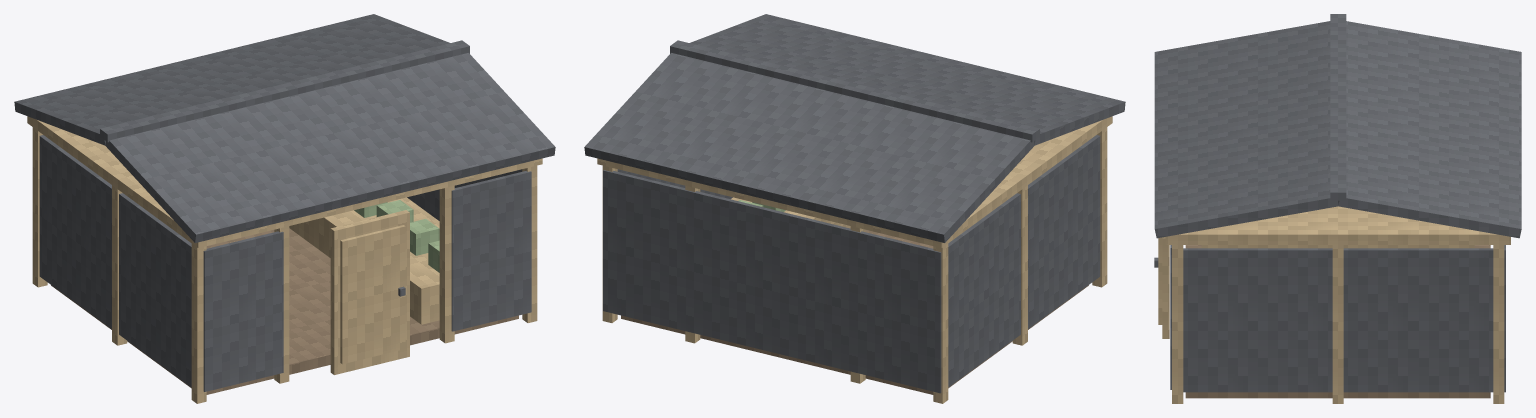
The model's file is pixel-modern-farm-greenhouse-dc53db56__29098.glb.
3 views of the same model, side by side, from view 1: azimuth 30°, elevation 25°; view 2: azimuth 150°, elevation 25°; view 3: azimuth 270°, elevation 25° (orthographic).
Visible parts, largest first — view 1: greenhouse, door/oak; view 2: greenhouse; view 3: greenhouse, door/oak.
Boxes of the visible parts, <box> form: greenhouse: <box>14,14,555,403</box>; door/oak: <box>330,210,409,374</box>; greenhouse: <box>584,14,1125,403</box>; greenhouse: <box>1154,14,1521,403</box>; door/oak: <box>1158,237,1169,338</box>.
Size of the model in its own units: 5.26 by 2.98 by 4.57.
Materials: 4 (4 with a texture image).
